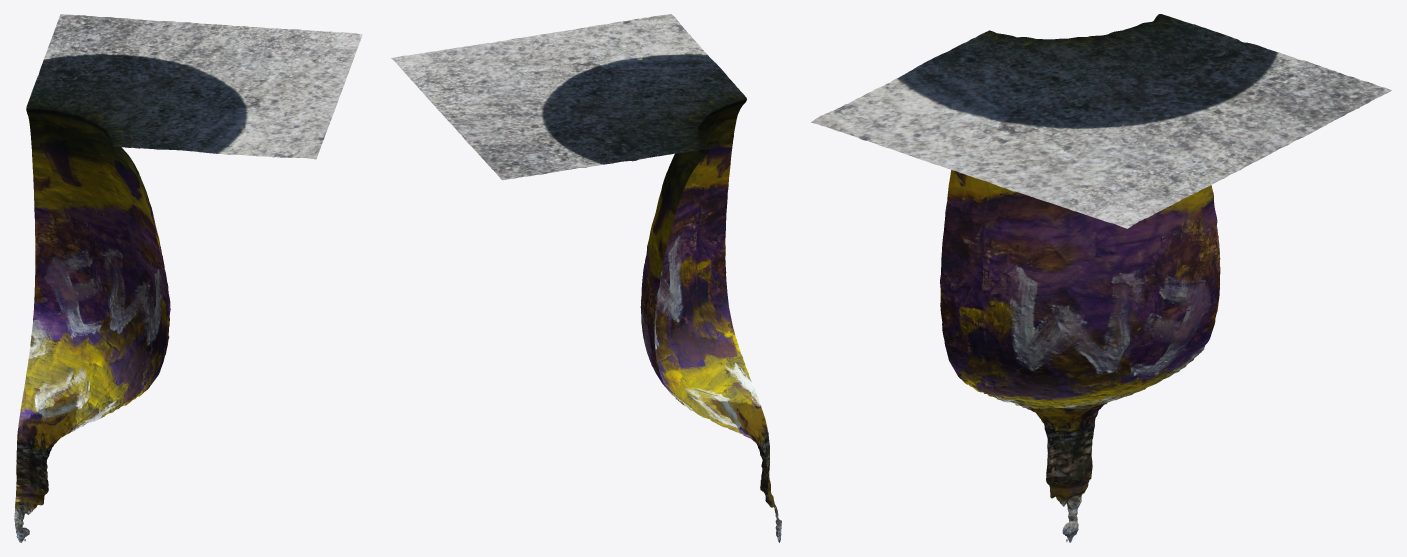
The model's file is tile_2_1.obj.
3 views of the same model, side by side, from view 1: azimuth 30°, elevation 25°; view 2: azimuth 150°, elevation 25°; view 3: azimuth 270°, elevation 25° (orthographic). The views are drawn at different scales.
Parts seen in each view (by area): view 1: texture_0; view 2: texture_0; view 3: texture_0.
Boxes of the visible parts, x1,y1,x2,y2 form: texture_0: [14, 14, 362, 542]; texture_0: [391, 14, 781, 542]; texture_0: [811, 14, 1391, 542].
Size of the model in its own units: 0.5076 by 0.5364 by 0.5063.
1 material, 1 textured.
